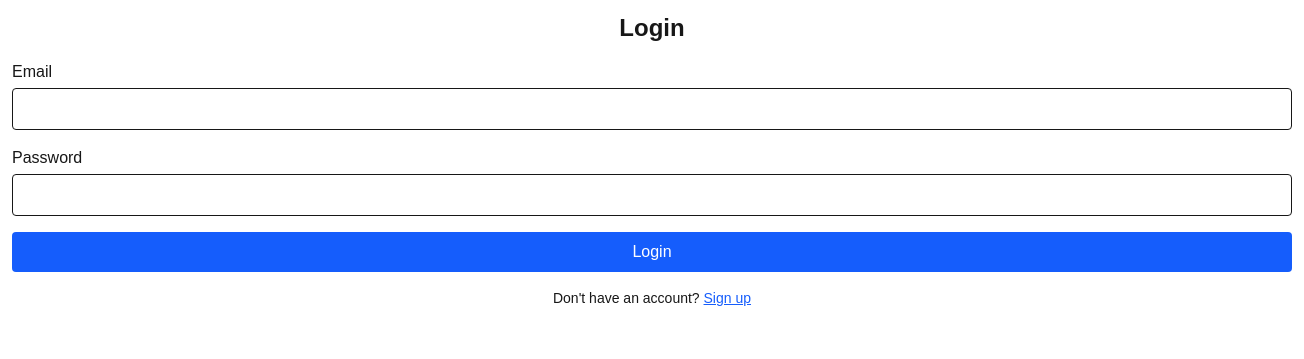
Test: auth flow › shows an error for invalid login credentials
Type "wrong@test.com" into the field with test id "auth-login-email" at (652, 109), box x1=12 y1=88 x2=1292 y2=130
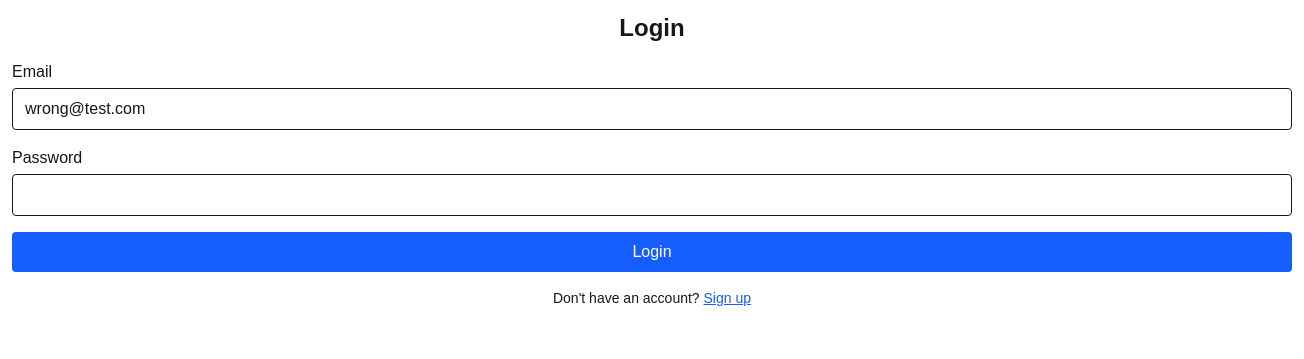
Type "wrongpassword" into the password field with test id "auth-login-password" at (652, 195), box x1=12 y1=174 x2=1292 y2=216
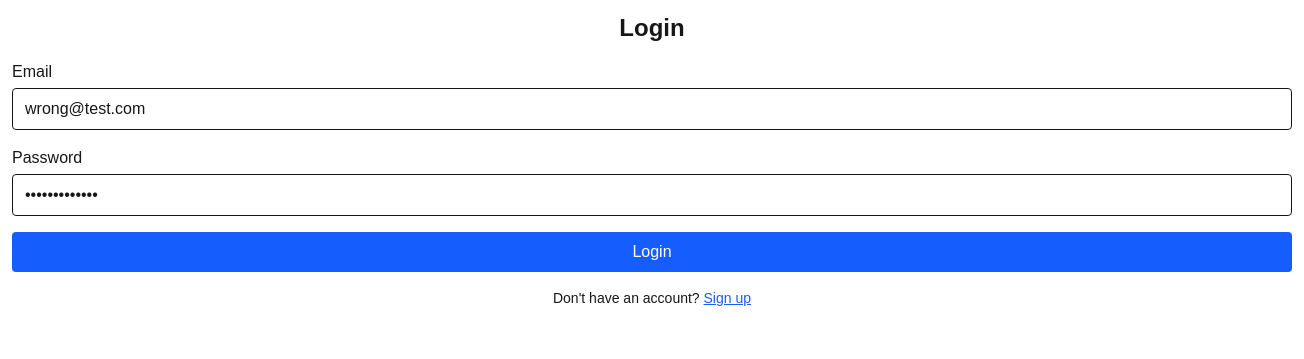
Click the button with test id "auth-login-submit" at (652, 252), box x1=12 y1=232 x2=1292 y2=272
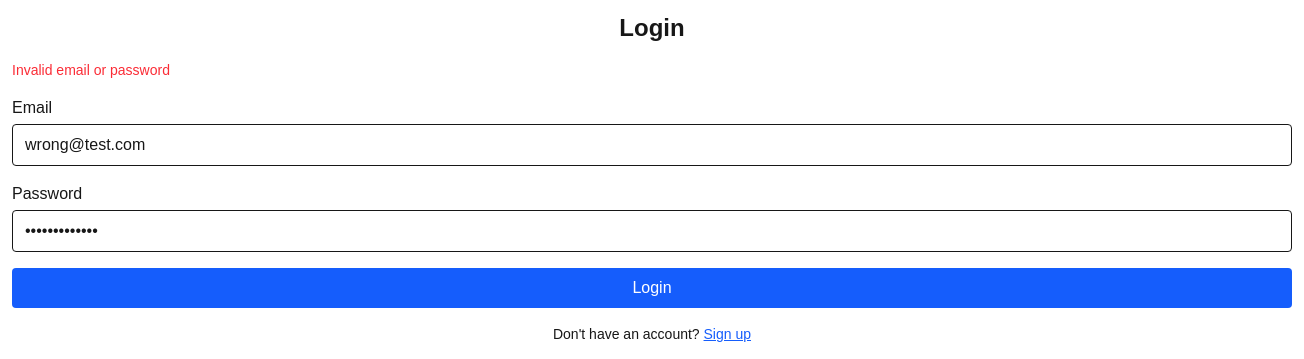
Result: the text "Invalid email or password" is shown at x1=12 y1=62 x2=170 y2=78
